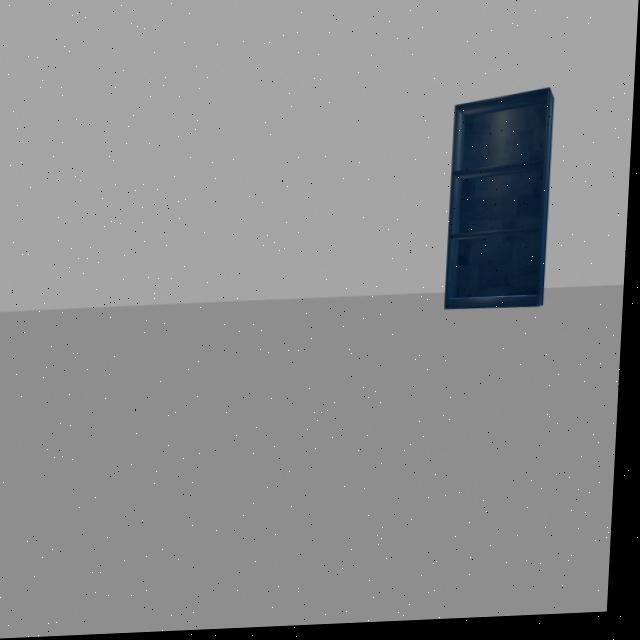shelf: (437, 78, 571, 331)
